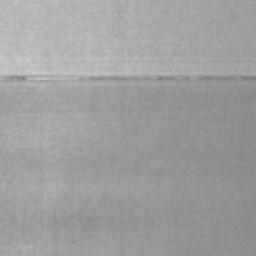Welding line: (0, 73, 256, 84)
